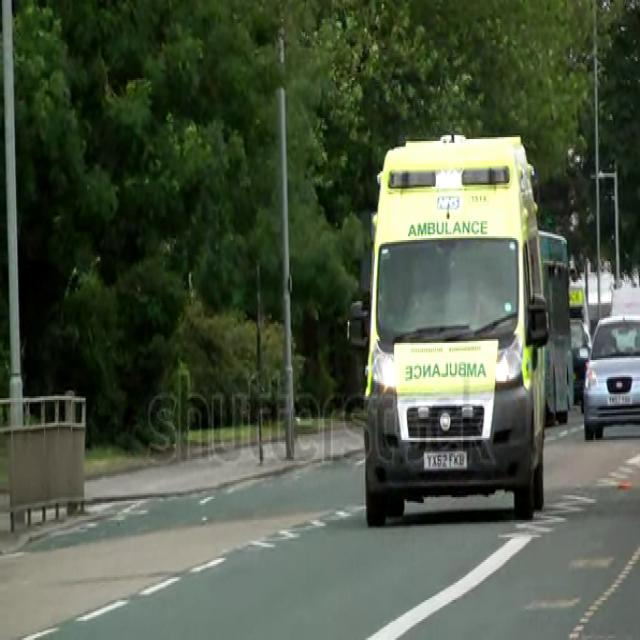ambulance: (346, 132, 551, 524)
